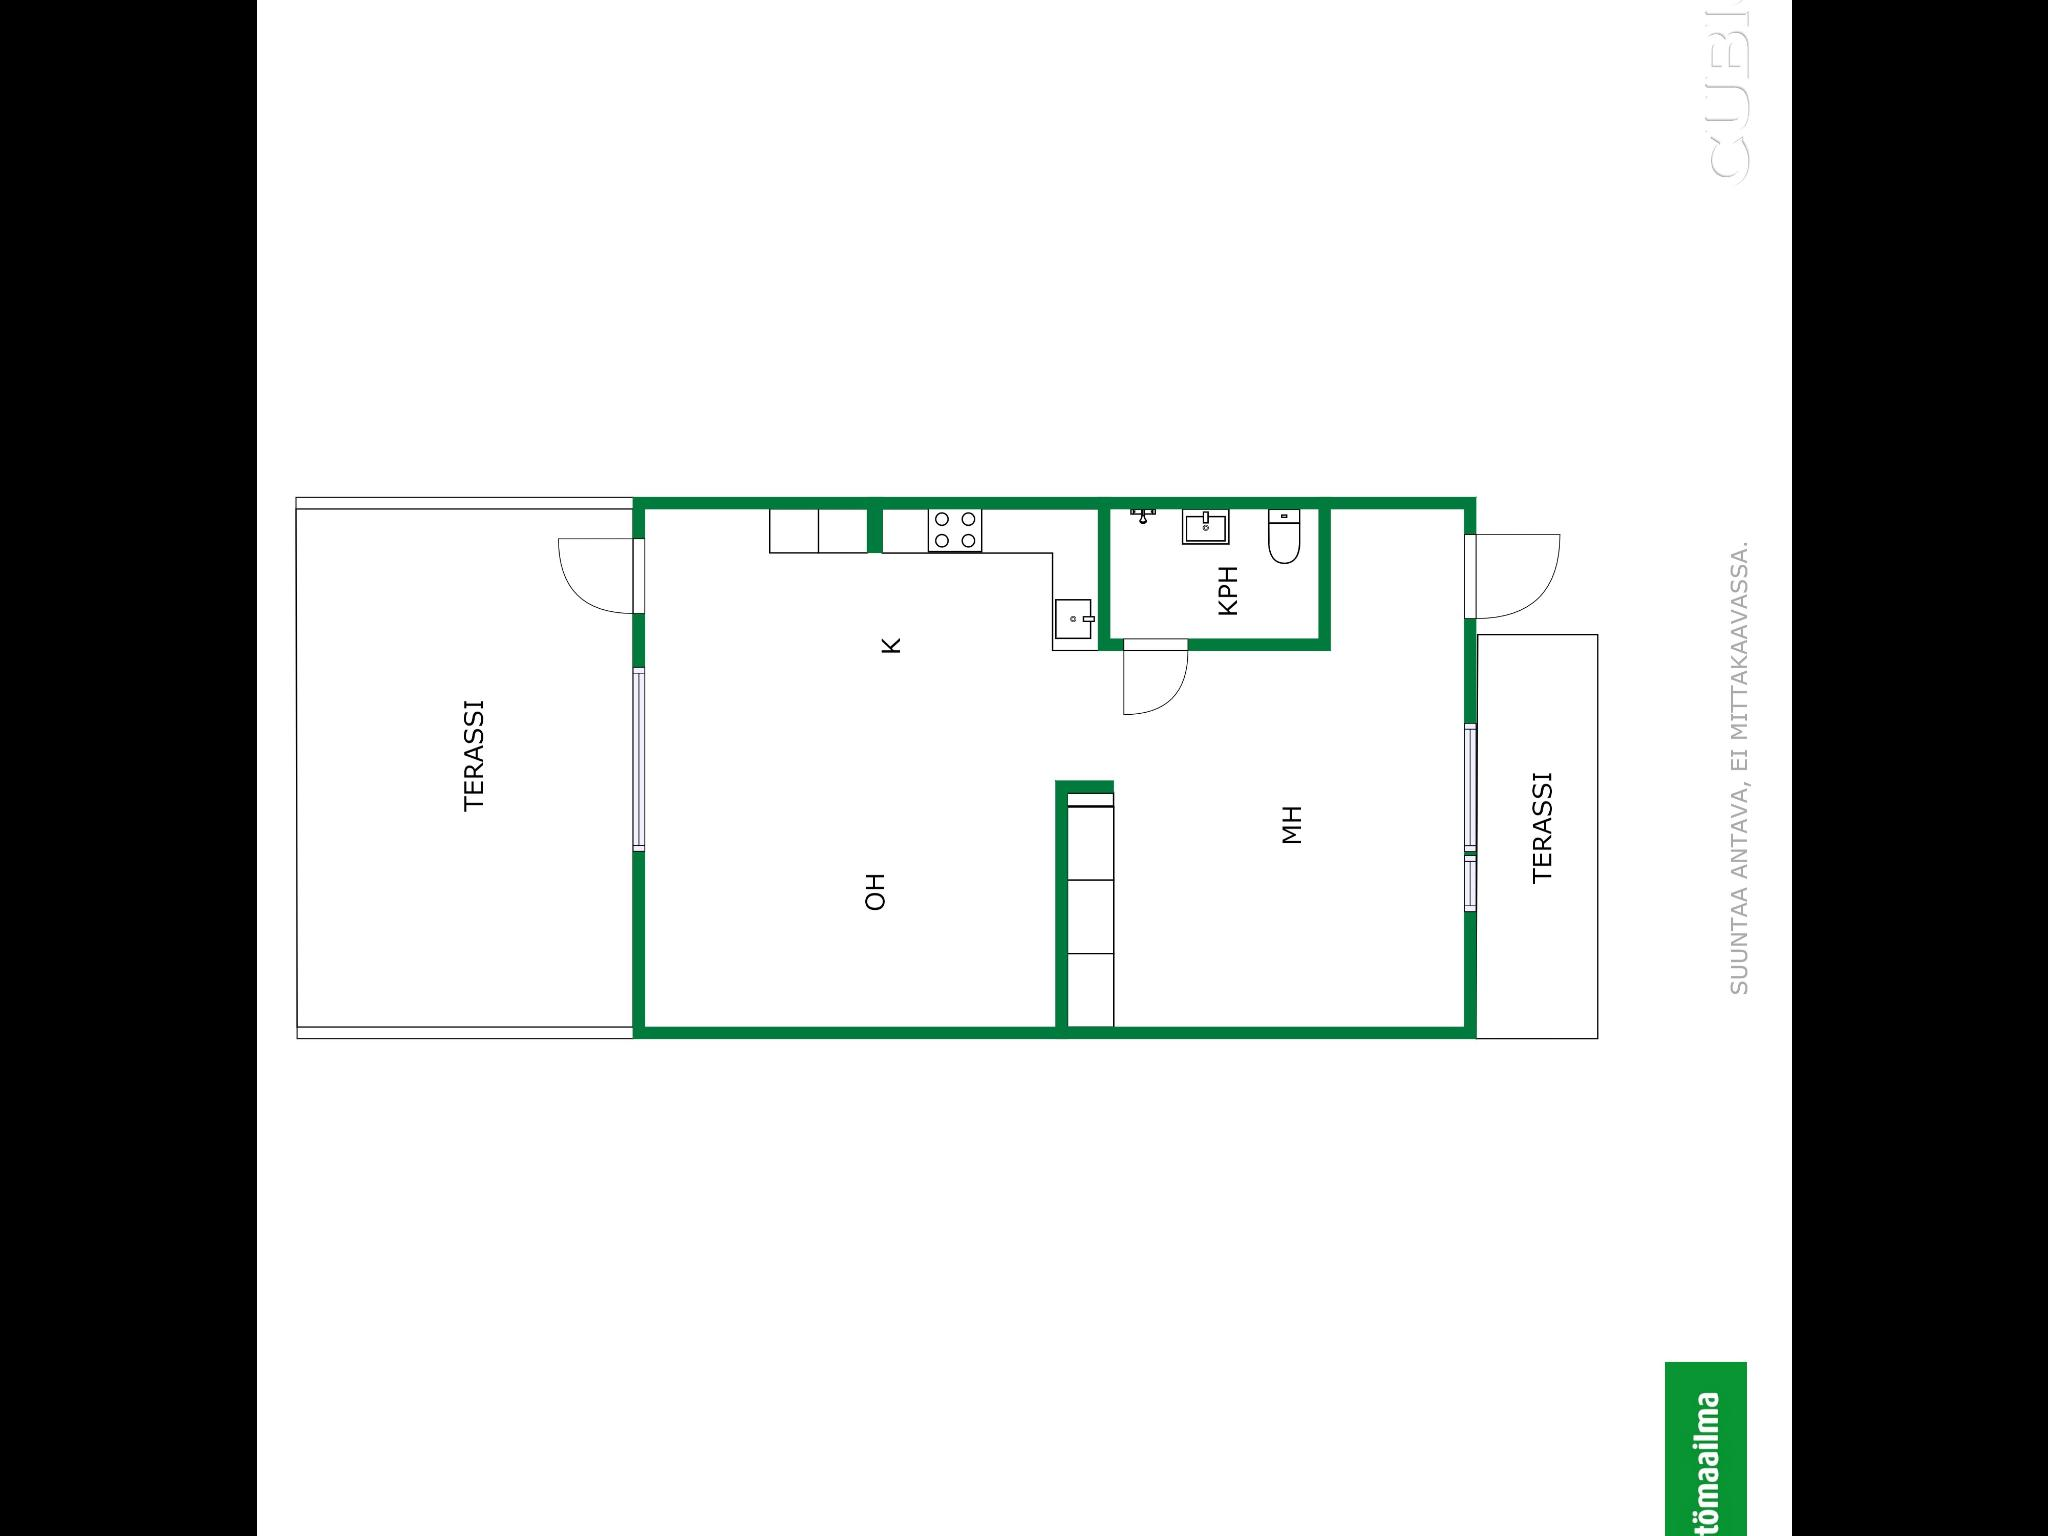bathroom: (1114, 500, 1324, 649)
door: (1458, 523, 1564, 624), (552, 531, 648, 621), (1111, 629, 1193, 721)
perimeter: (626, 492, 1485, 1044)
window: (621, 649, 653, 863), (1450, 716, 1488, 857), (1456, 849, 1484, 915)
